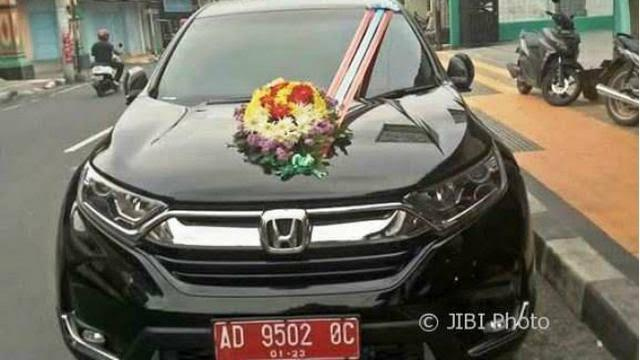plate: (211, 315, 361, 360)
